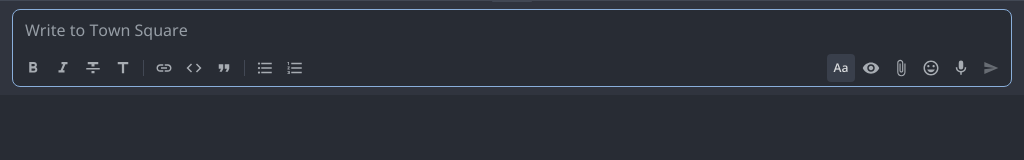
an unknown command keeps the text and offers to send it as a message; Enter again sends it
Step 1. Type "/nope x" into the text box named "Message" → (512, 30), box [13,10,1011,50]
Then press Enter
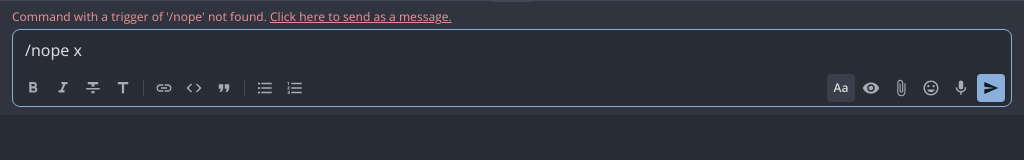
Expected: the message shows "Command with a trigger of '/nope' not found.", [12,8,267,25]
Expected: the button "Click here to send as a message." is shown, [270,9,452,25]
Step 2. Press Enter
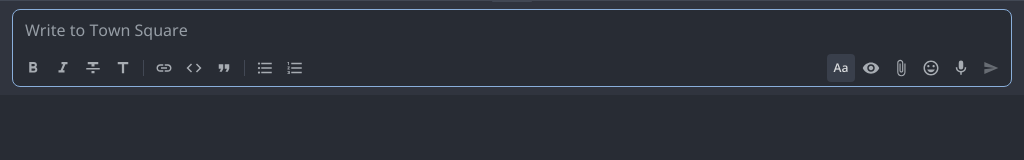
Expected: the message "Command with a trigger of '/nope' not found. Click here to send as a message." is gone
